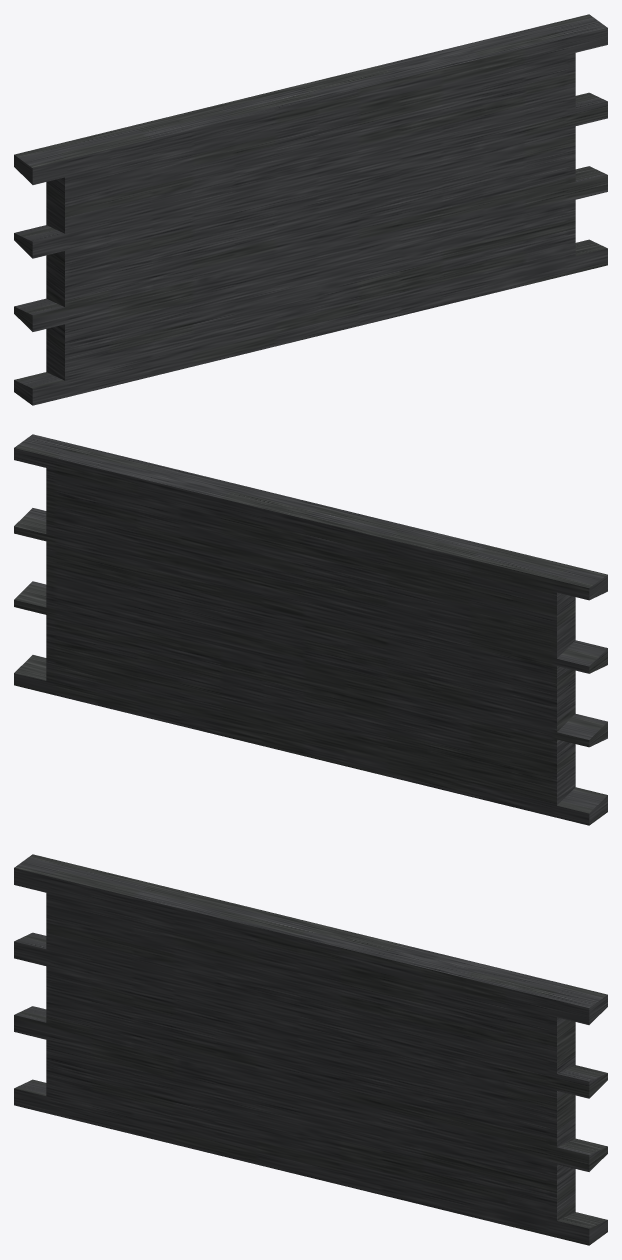
Rendered from original-16.obj.
3 views of the same model, one above another, from view 1: azimuth 30°, elevation 25°; view 2: azimuth 150°, elevation 25°; view 3: azimuth 330°, elevation 25° (orthographic).
Visible parts, largest first — view 1: Group16/mesh42/mesh42-geometry#mesh42-geometry; view 2: Group16/mesh42/mesh42-geometry#mesh42-geometry; view 3: Group16/mesh42/mesh42-geometry#mesh42-geometry.
Part boxes in pixels (x1,y1,x2,y2): Group16/mesh42/mesh42-geometry#mesh42-geometry: [14, 14, 607, 405]; Group16/mesh42/mesh42-geometry#mesh42-geometry: [14, 434, 607, 825]; Group16/mesh42/mesh42-geometry#mesh42-geometry: [14, 854, 607, 1245].
Size of the model in its own units: 0.263 by 0.1037 by 0.0148.
